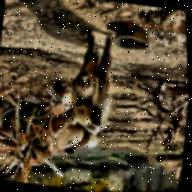boar: (60, 26, 126, 138)
